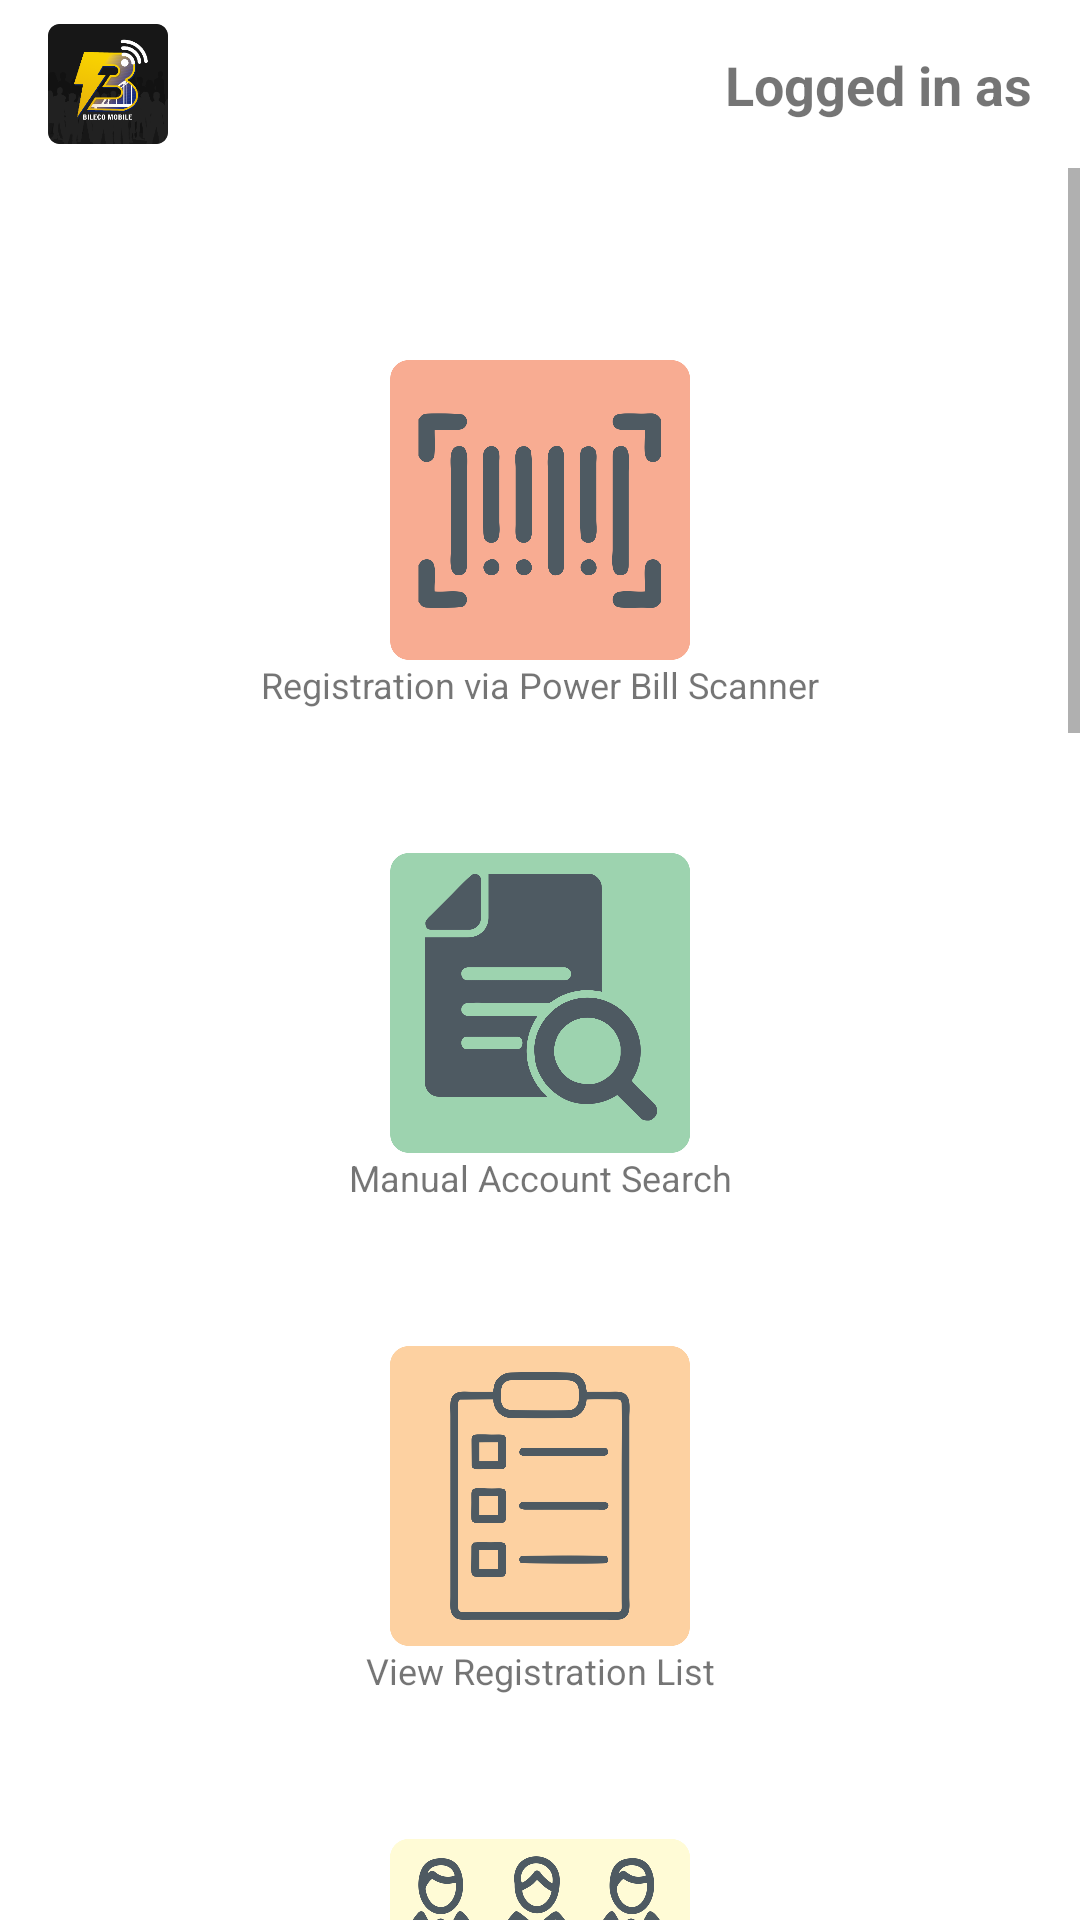

Screen size 1080px x 1920px. Icon name, then its box in pixels as (x1, y1, x2, y2):
barcode search: (390, 360, 690, 660)
